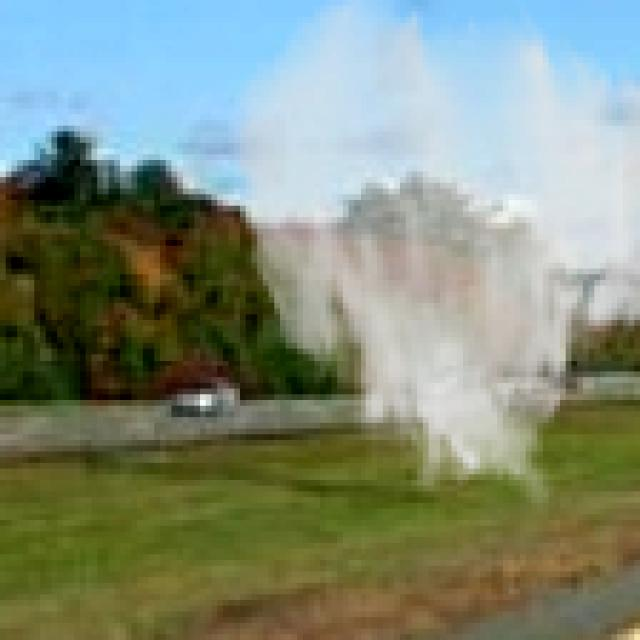smoke: (228, 0, 640, 514)
